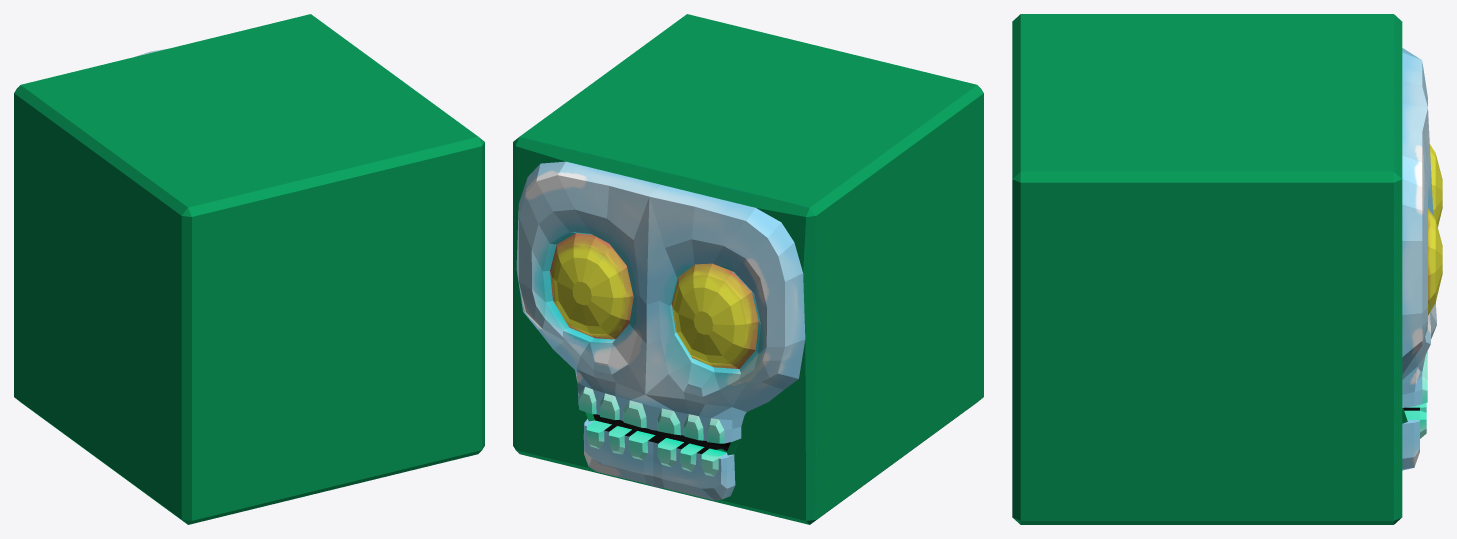
The model's file is Block Assets Skeleton TWO.fbx.
3 renders of one model, left to right at view 1: azimuth 30°, elevation 25°; view 2: azimuth 150°, elevation 25°; view 3: azimuth 270°, elevation 25°, orthographic. The views are drawn at different scales.
Visible parts, largest first — view 1: Block Skeleton TWO; view 2: Block Skeleton TWO; view 3: Block Skeleton TWO.
Boxes of the visible parts, bbox=[...] form: Block Skeleton TWO: bbox=[14, 14, 484, 524]; Block Skeleton TWO: bbox=[513, 14, 983, 524]; Block Skeleton TWO: bbox=[1012, 14, 1442, 524].
Size of the model in its own units: 1 by 1 by 1.1.
